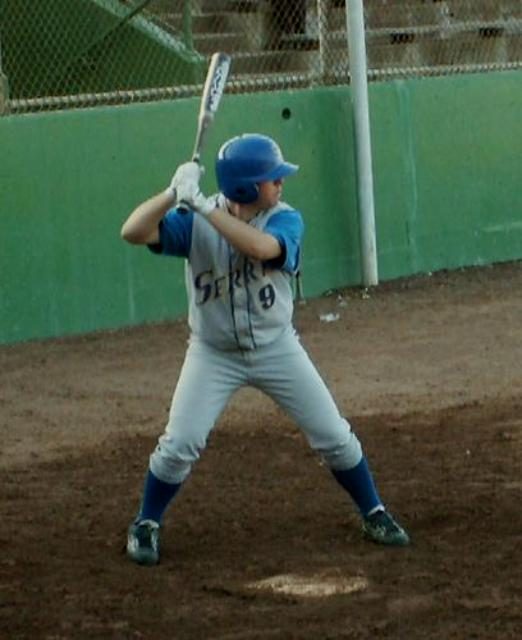bat: (187, 51, 231, 165)
